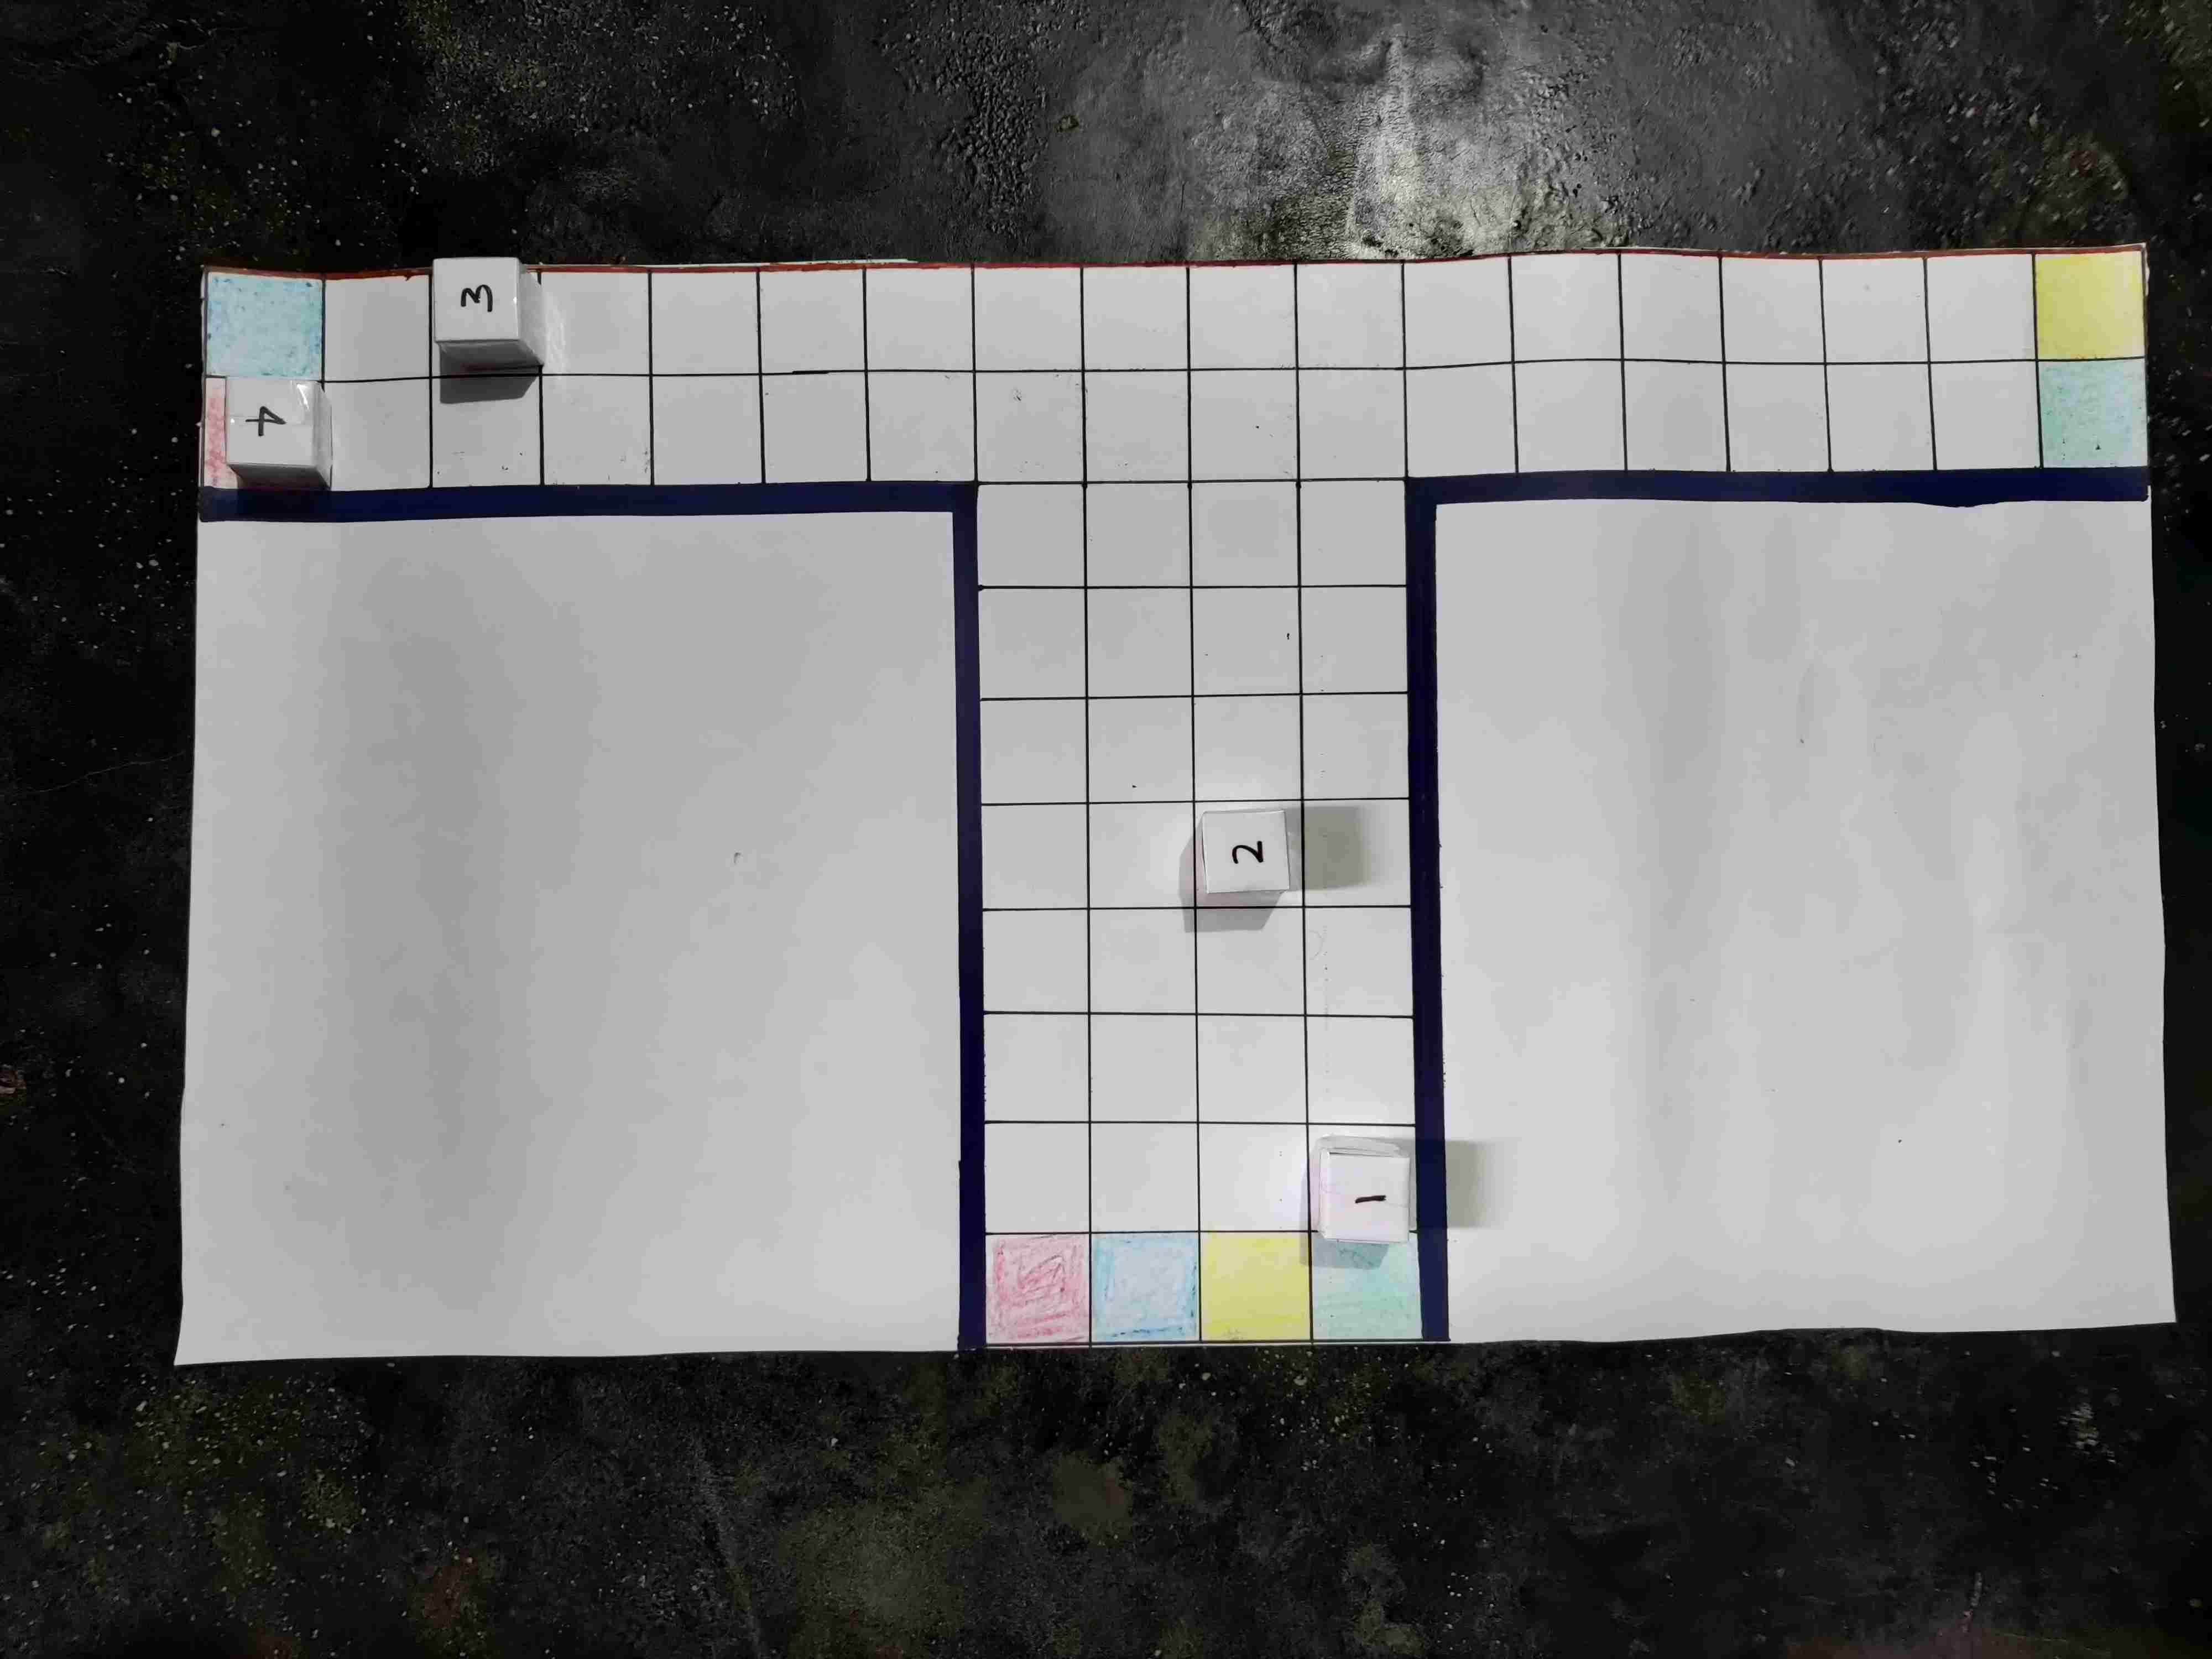arena: (179, 277, 2174, 1453)
bot: (1986, 1234, 2069, 1316), (475, 1169, 556, 1253), (1050, 1218, 1141, 1291), (1183, 434, 1266, 512)
